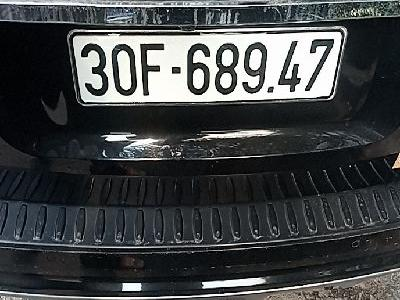lisence: (66, 24, 348, 109)
